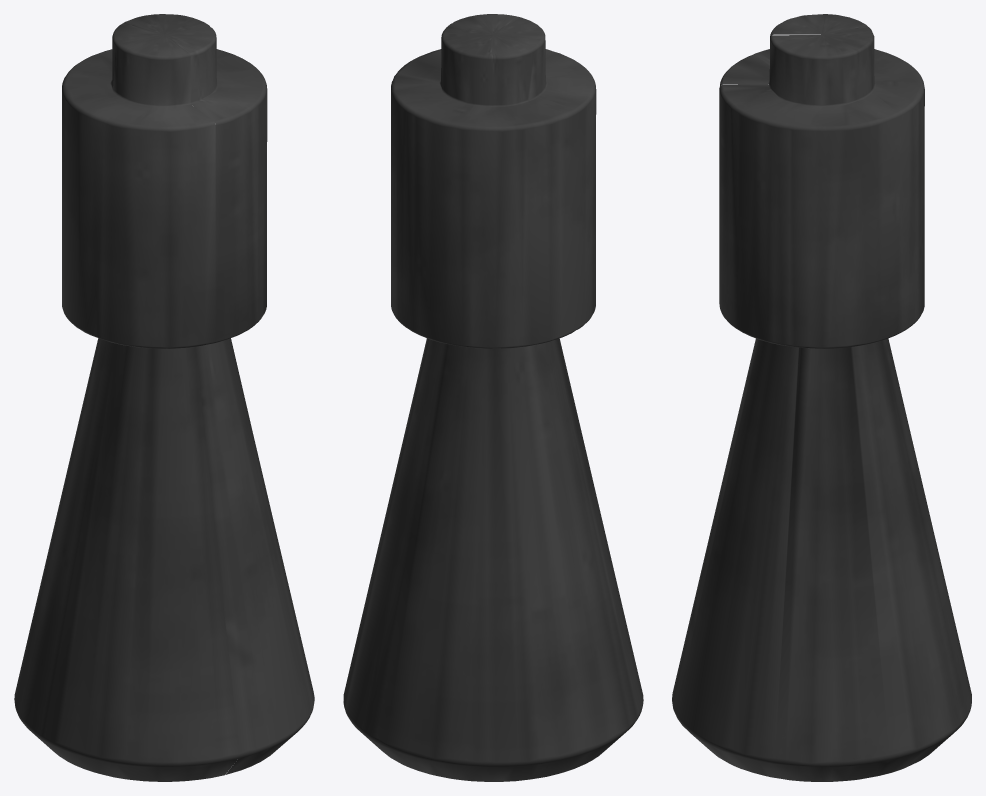
The model's file is 04_kral_cerna.glb.
3 renders of one model, left to right at view 1: azimuth 30°, elevation 25°; view 2: azimuth 150°, elevation 25°; view 3: azimuth 270°, elevation 25°, orthographic.
Parts seen in each view (by area): view 1: 04_kral_cerna; view 2: 04_kral_cerna; view 3: 04_kral_cerna.
Part boxes in pixels (x1=…): 04_kral_cerna: x1=14, y1=14, x2=314, y2=781; 04_kral_cerna: x1=343, y1=14, x2=643, y2=781; 04_kral_cerna: x1=672, y1=14, x2=971, y2=781.
Size of the model in its own units: 0.0333 by 0.0853 by 0.0333.
1 material, 1 textured.
